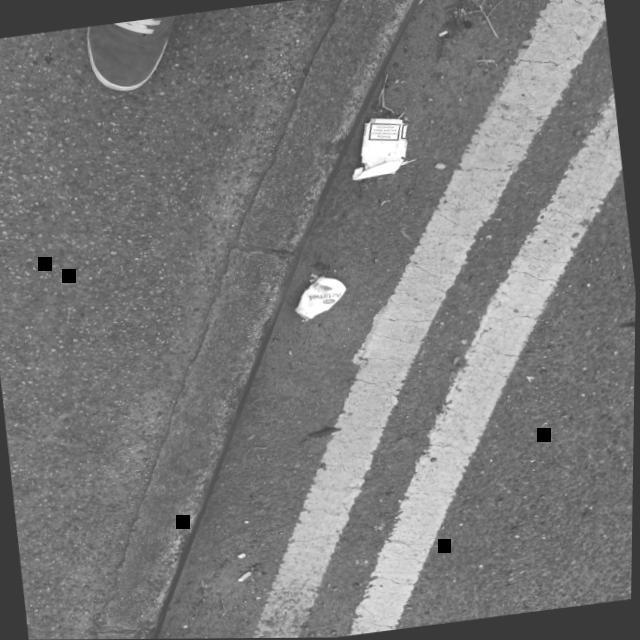Cigarette: (238, 570, 252, 580), (438, 30, 446, 35)
Other carton: (352, 118, 415, 179)
Other plastic container: (295, 277, 346, 318)
Shoe: (87, 14, 176, 89)
